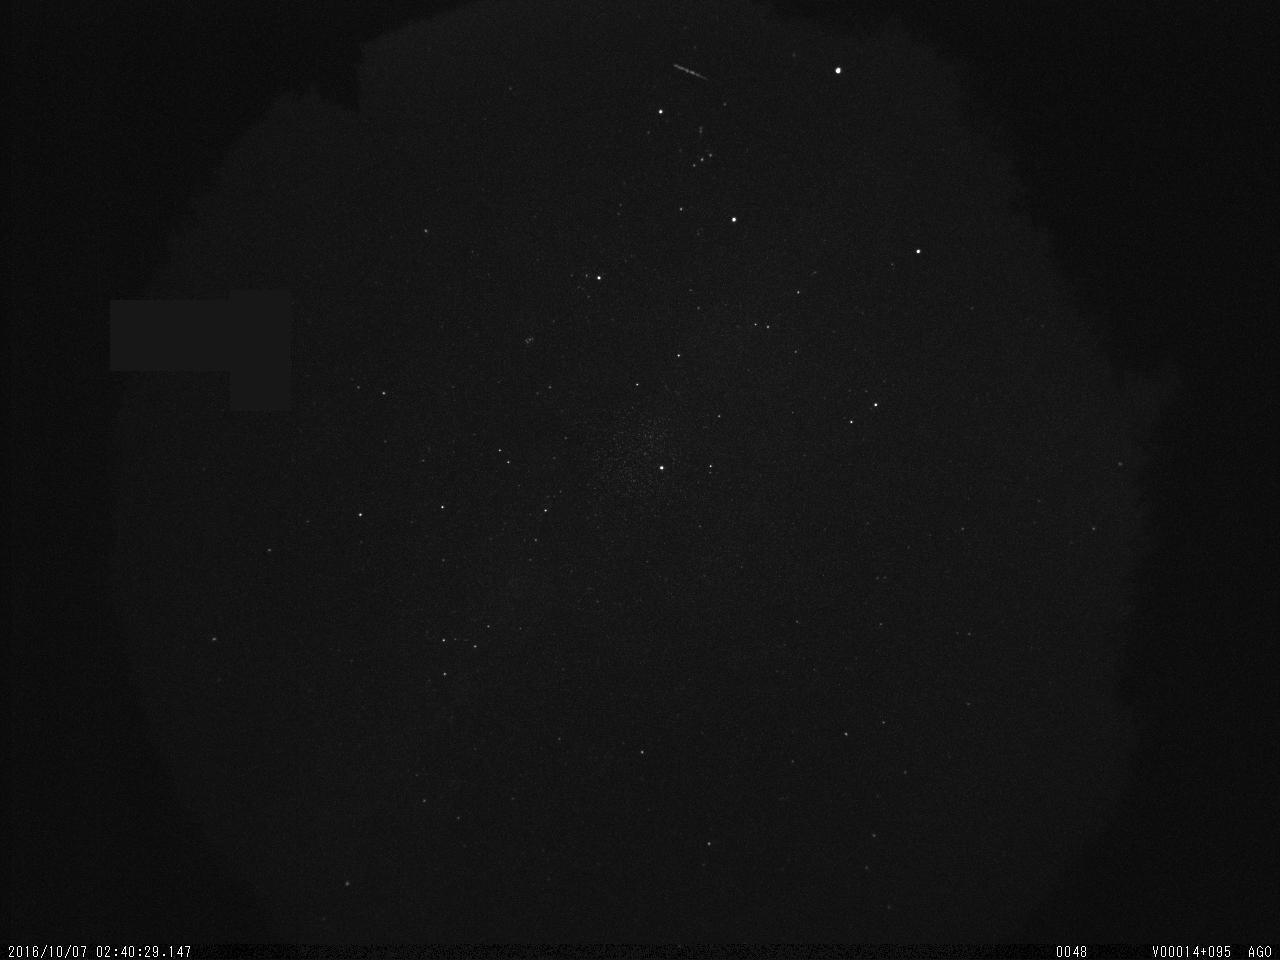Meteor: (665, 53, 717, 90)
